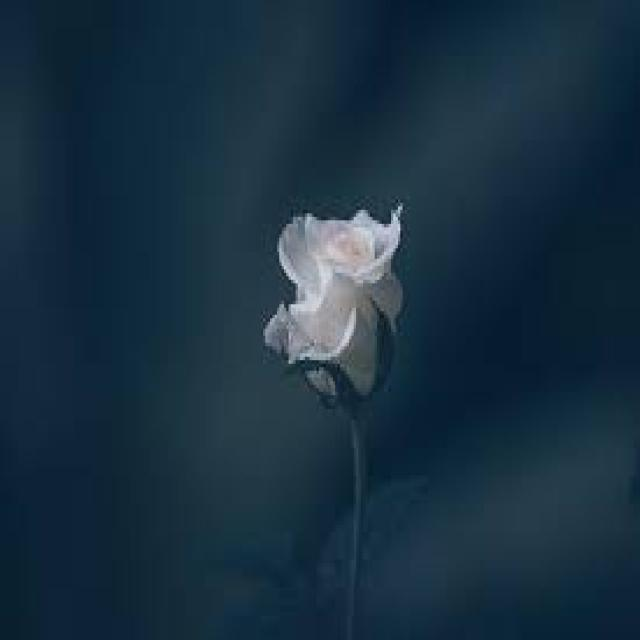rose: (262, 188, 434, 427)
